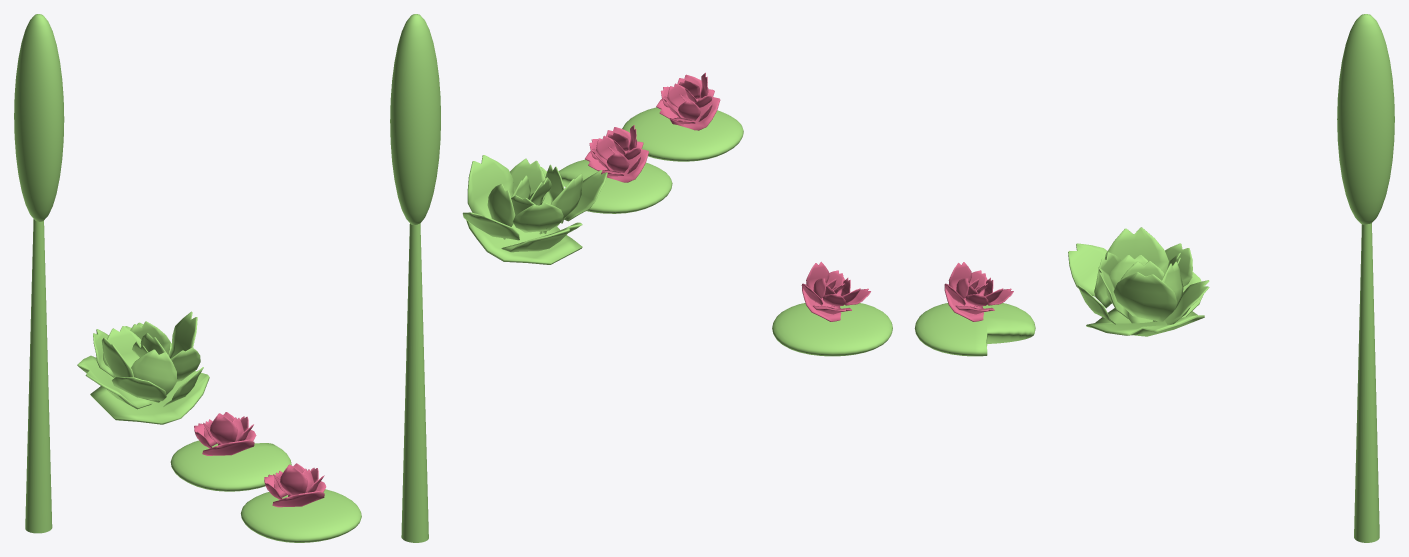
Rendered from waterplants.fbx.
3 views of the same model, side by side, from view 1: azimuth 30°, elevation 25°; view 2: azimuth 150°, elevation 25°; view 3: azimuth 270°, elevation 25° (orthographic).
Visible parts, largest first — view 1: leaf_waterLettace.001, felt, base, lily pad, liliypad_cut, lilypad_cut_flower, lilypad_flower; view 2: leaf_waterLettace.001, felt, base, lily pad, liliypad_cut, lilypad_flower, lilypad_cut_flower; view 3: leaf_waterLettace.001, felt, base, lily pad, liliypad_cut, lilypad_cut_flower, lilypad_flower.
Part boxes in pixels (x1,y1,x2,y2): leaf_waterLettace.001: [77, 311, 209, 424]; felt: [14, 14, 64, 221]; base: [25, 219, 52, 533]; lily pad: [240, 489, 361, 542]; liliypad_cut: [170, 440, 291, 491]; lilypad_cut_flower: [194, 412, 256, 455]; lilypad_flower: [264, 463, 326, 507]; leaf_waterLettace.001: [462, 155, 607, 264]; felt: [390, 14, 440, 224]; base: [401, 223, 428, 542]; lily pad: [622, 107, 743, 161]; liliypad_cut: [559, 159, 672, 213]; lilypad_flower: [656, 72, 720, 130]; lilypad_cut_flower: [585, 125, 648, 182]; leaf_waterLettace.001: [1068, 227, 1209, 336]; felt: [1337, 14, 1394, 224]; base: [1354, 223, 1379, 542]; lily pad: [772, 303, 892, 356]; liliypad_cut: [914, 303, 1035, 356]; lilypad_cut_flower: [944, 262, 1013, 321]; lilypad_flower: [801, 262, 870, 321].
Size of the model in its own units: 183 by 801 by 865.
